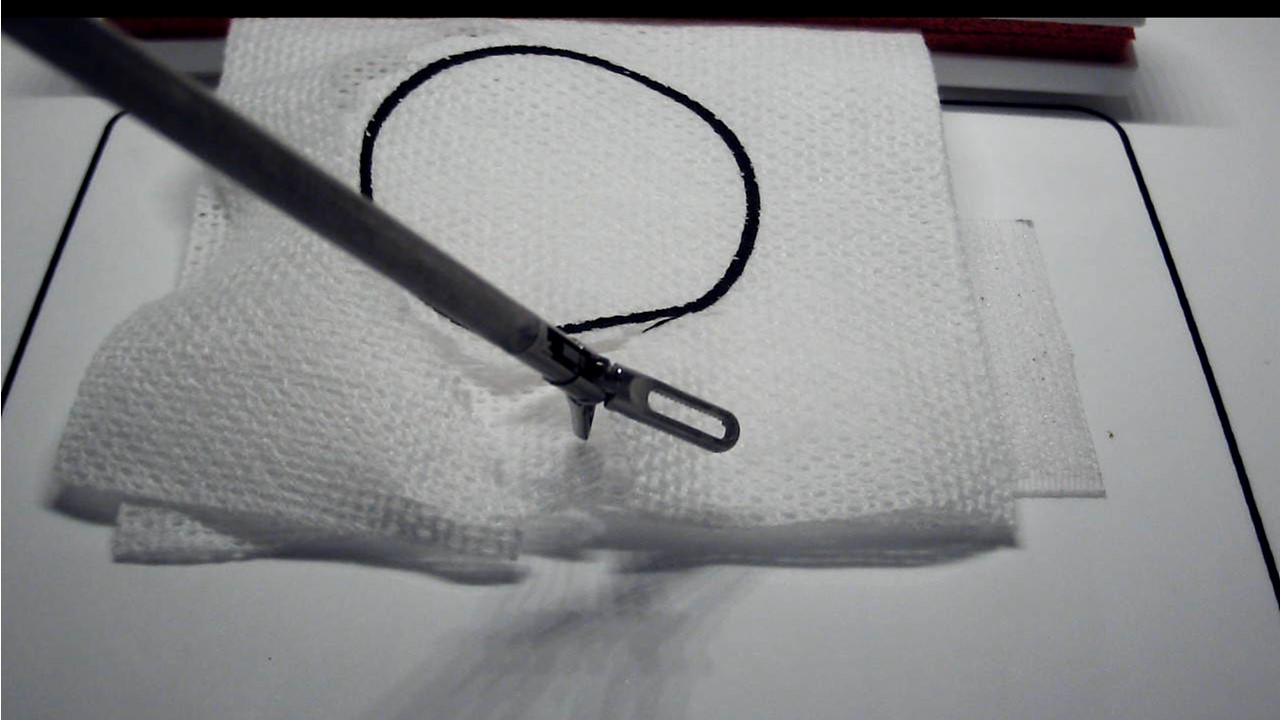Circle: (356, 40, 761, 333)
Grasper: (568, 373, 741, 453)
